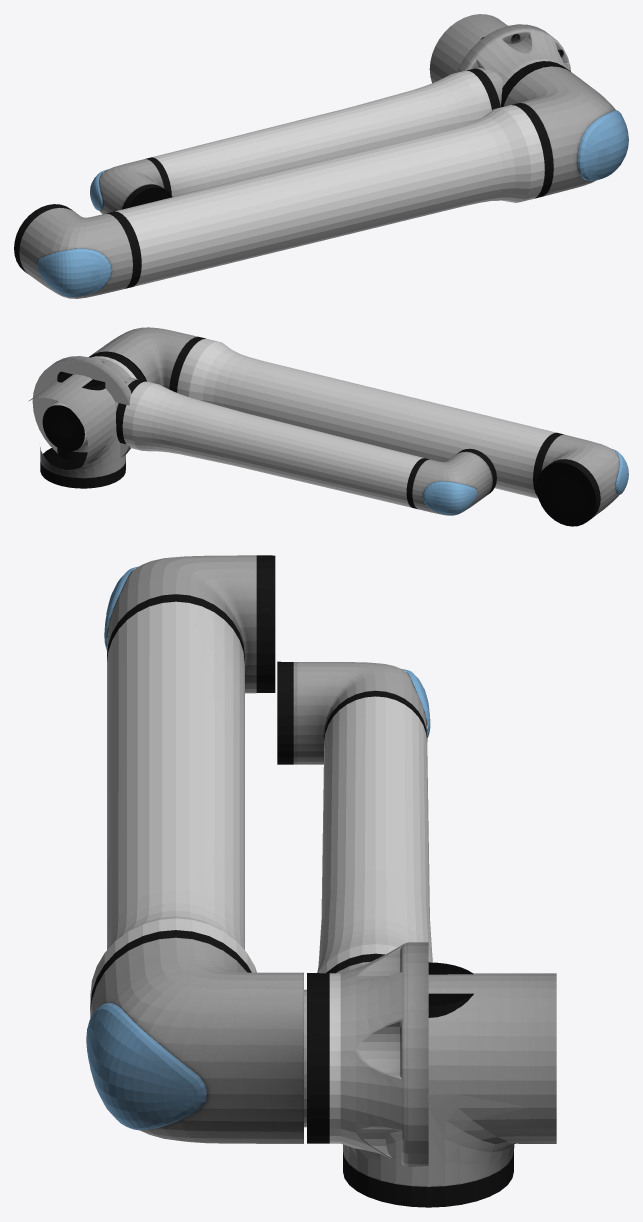
The model's file is ur8long.glb.
3 views of the same model, one above another, from view 1: azimuth 30°, elevation 25°; view 2: azimuth 150°, elevation 25°; view 3: azimuth 270°, elevation 25° (orthographic). The views are drawn at different scales.
Visible parts, largest first — view 1: upperarm, forearm, base, shoulder; view 2: upperarm, forearm, shoulder, base, wrist2, wrist1; view 3: upperarm, forearm, shoulder, base, wrist2.
Boxes of the visible parts, x1,y1,x2,y2 form: upperarm: [14, 66, 628, 298]; forearm: [90, 67, 502, 214]; base: [456, 24, 570, 107]; shoulder: [429, 14, 507, 83]; upperarm: [91, 327, 628, 526]; forearm: [115, 377, 496, 515]; shoulder: [28, 374, 125, 488]; base: [32, 352, 145, 458]; wrist2: [42, 371, 105, 451]; wrist1: [57, 401, 87, 462]; upperarm: [86, 555, 303, 1143]; forearm: [277, 661, 432, 1127]; shoulder: [343, 973, 556, 1207]; base: [307, 942, 428, 1166]; wrist2: [428, 962, 473, 1017].
Bounding box in the file's own units: 1.06 × 0.211 × 0.4118.
2 materials, 2 textured.
